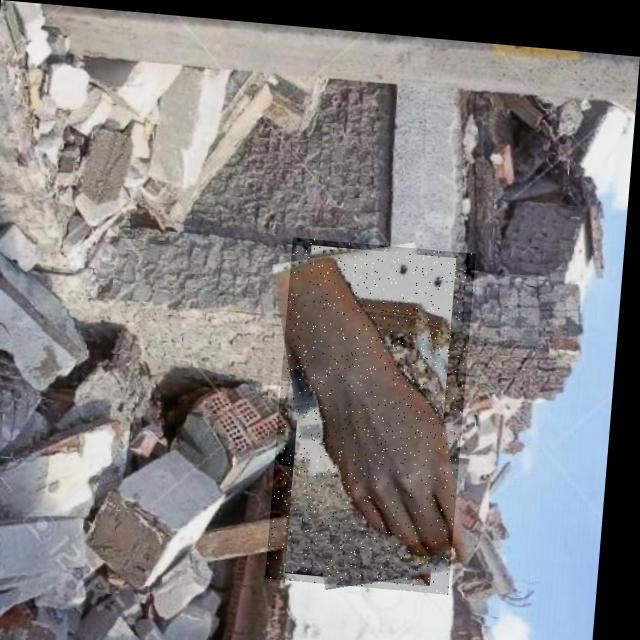Person in Rubble: (274, 232, 479, 585)
